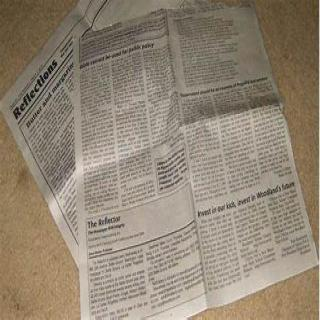Anorganik: (73, 7, 315, 311)
